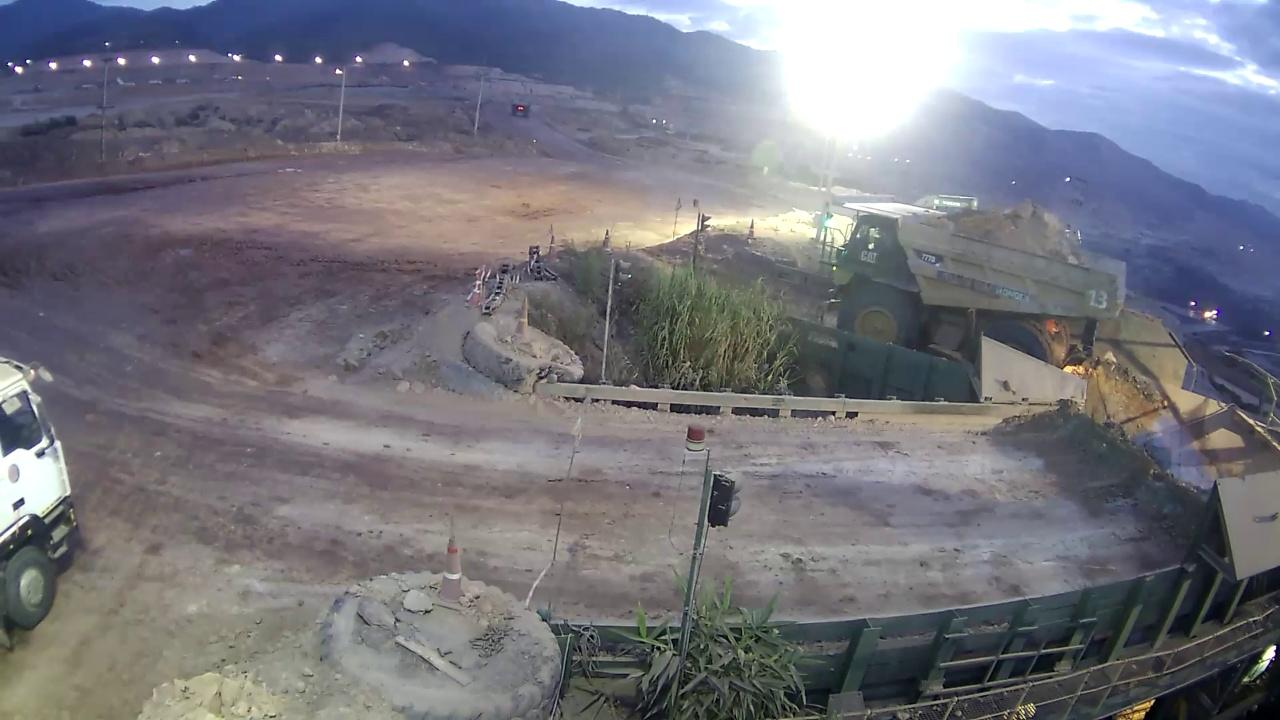full_load: (957, 191, 1093, 260)
mining_truck: (821, 187, 1130, 389)
tail_number: (1082, 282, 1112, 310)
